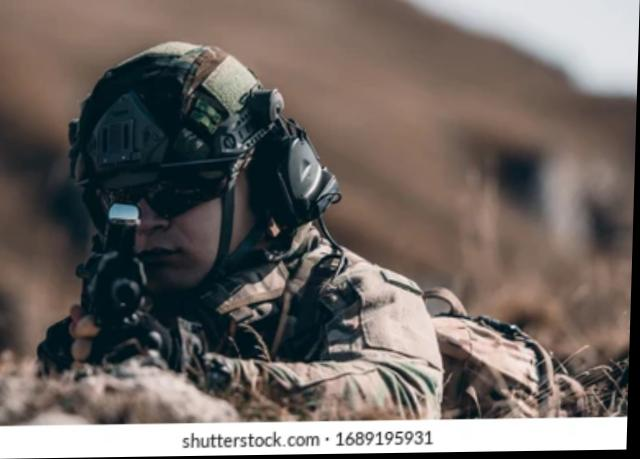other: (67, 61, 501, 415)
